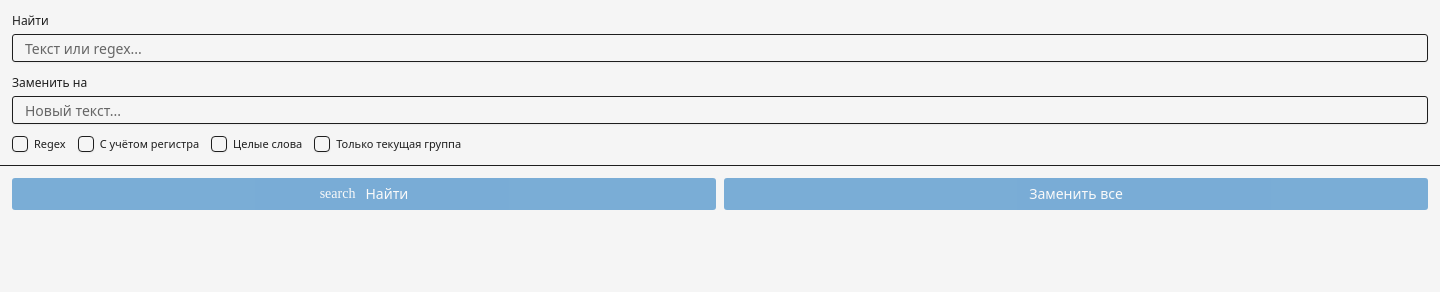
FindReplacePanel › should show preview with before/after text
This screenshot has width=1440, height=292.
In the field with placeholder "Текст или regex...": (720, 48) [12,34,1428,62], type "купить"
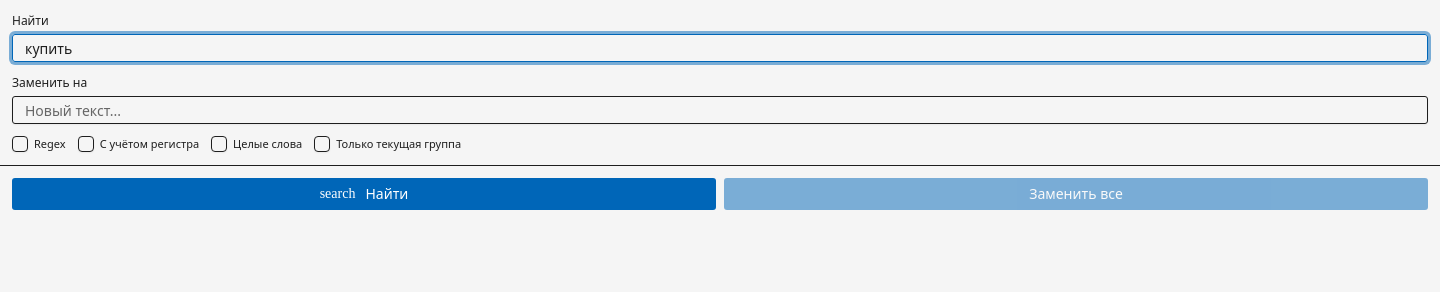
In the field with placeholder "Новый текст...": (720, 110) [12,96,1428,124], type "продать"
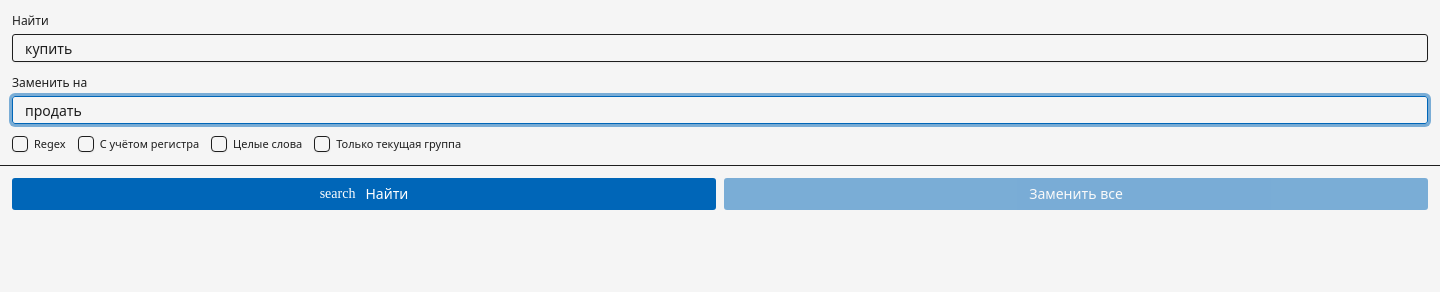
Click the button "Найти": (364, 194) [12,178,716,210]
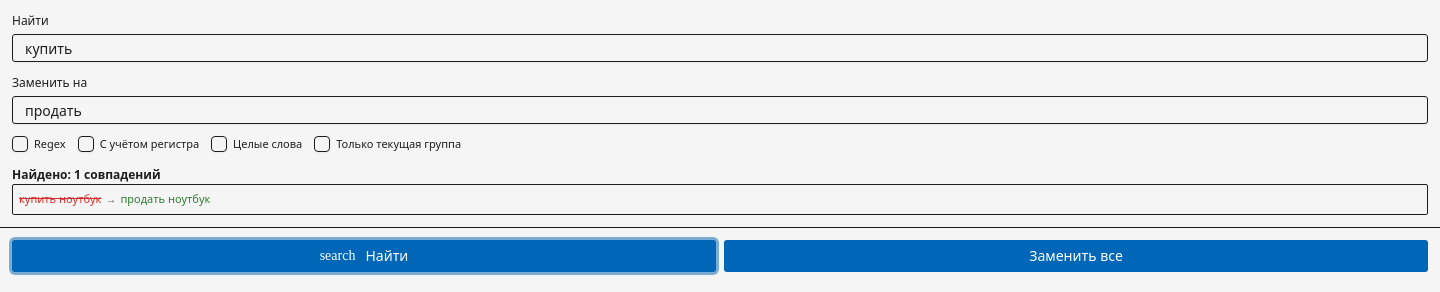
Expected: the text "купить ноутбук" is shown, [19,191,101,206]
Expected: the text "продать ноутбук" is shown, [120,191,210,206]
